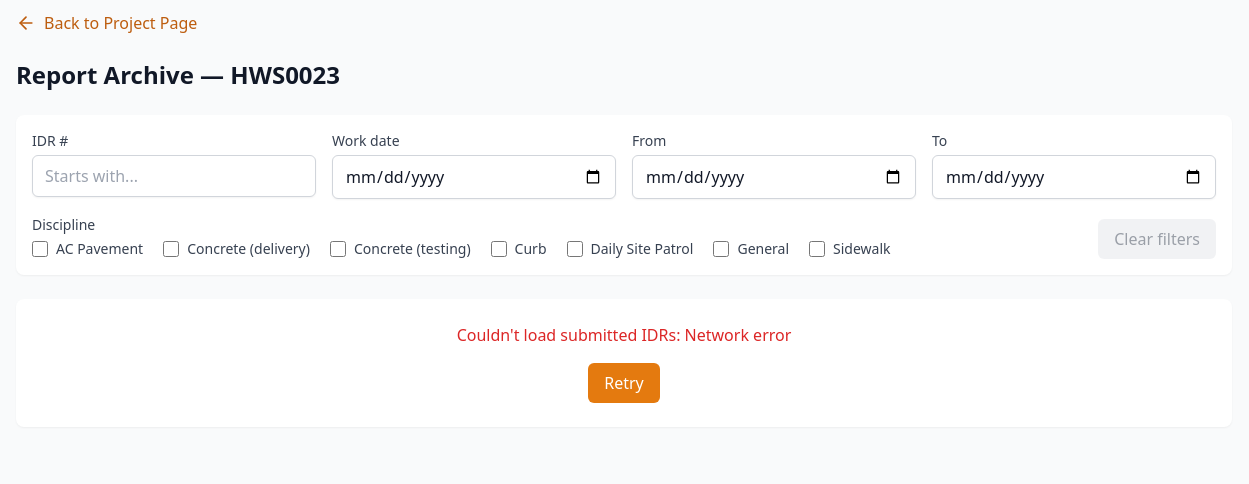
ReportArchivePage › shows the error and retries on click
The image size is (1249, 484).
Expected: the text "Couldn't load submitted IDRs: Network error" is shown, top-left (457, 324), bottom-right (791, 346)
Click the button "Retry" at {"x": 624, "y": 383}, box top-left (588, 363), bottom-right (660, 403)
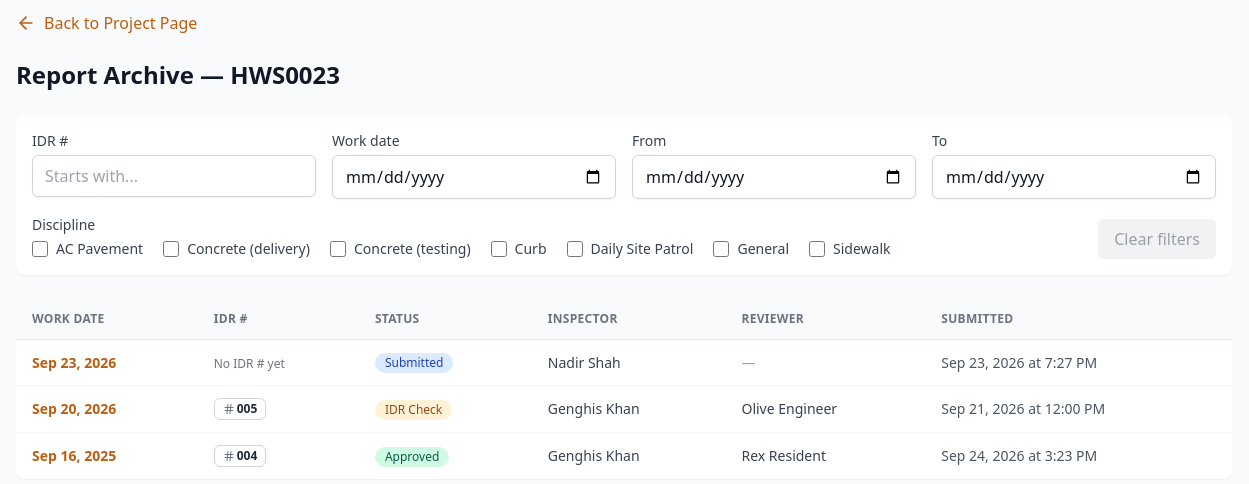
Expected: the button "Sep 23, 2026" is shown, top-left (32, 352), bottom-right (116, 372)
